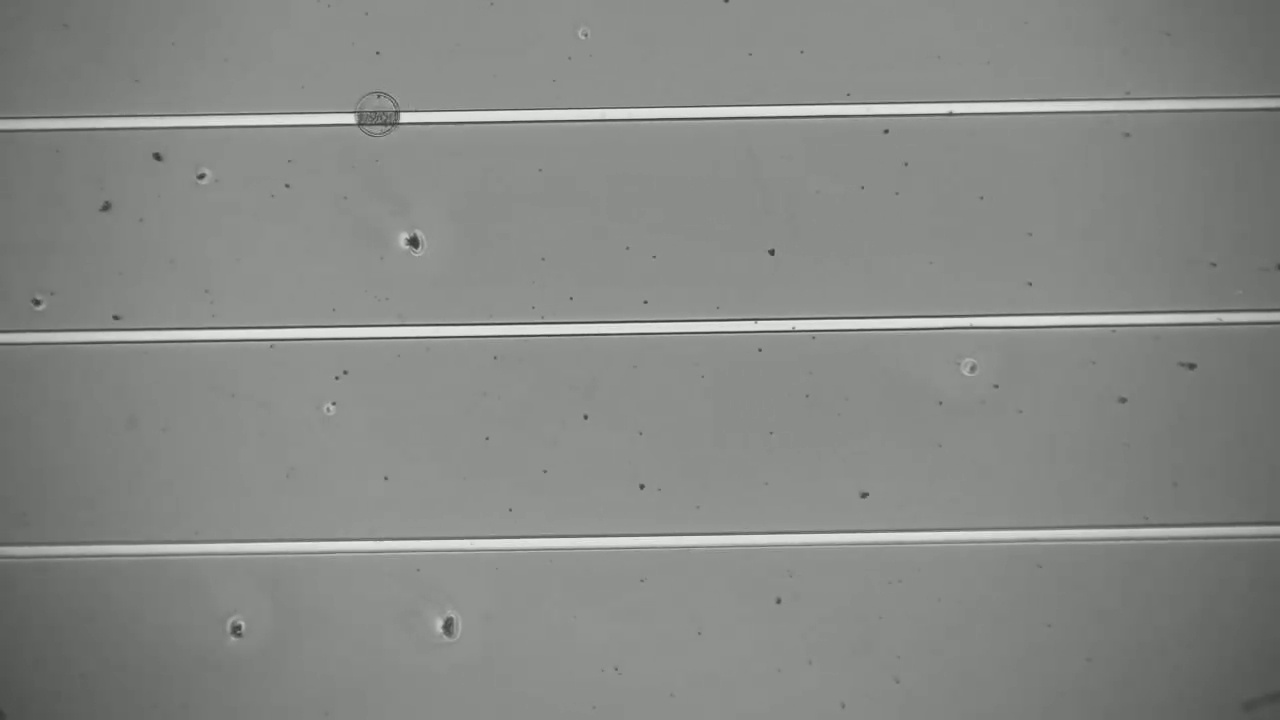gray_line: (343, 104, 411, 137)
